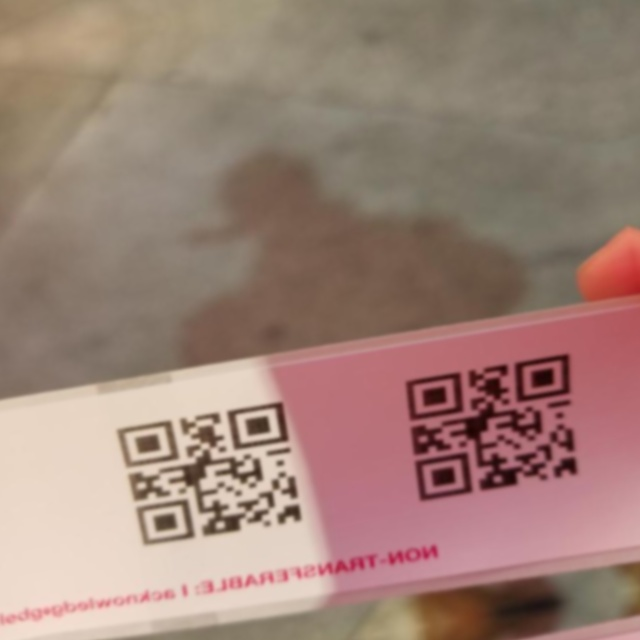qr-code: (97, 380, 323, 568), (384, 335, 610, 520)
